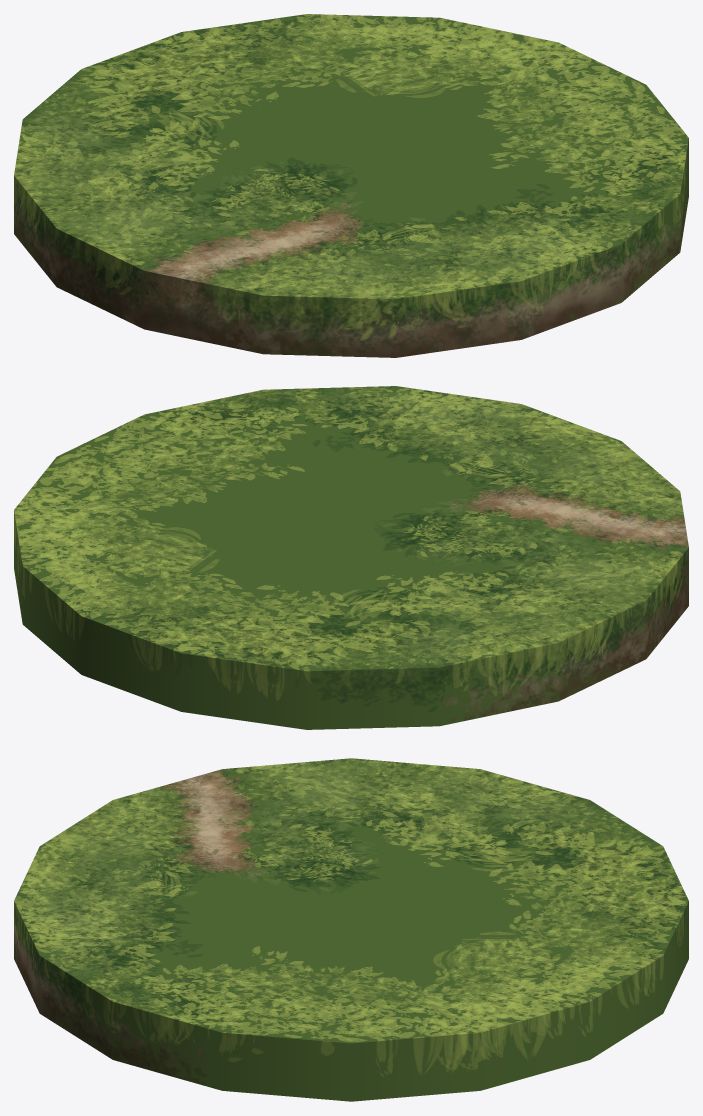
The model's file is GMTK2024_Tavern_Floor.fbx.
The picture shows the model from 3 angles, top to bottom: view 1: azimuth 30°, elevation 25°; view 2: azimuth 150°, elevation 25°; view 3: azimuth 270°, elevation 25°; orthographic projection.
Parts seen in each view (by area): view 1: teeawdaw108; view 2: teeawdaw108; view 3: teeawdaw108.
Boxes of the visible parts, box(x1,y1,x2,y2) form: teeawdaw108: box(14, 14, 688, 357); teeawdaw108: box(14, 386, 688, 729); teeawdaw108: box(14, 758, 688, 1101).
Size of the model in its own units: 191 by 18.15 by 191.
